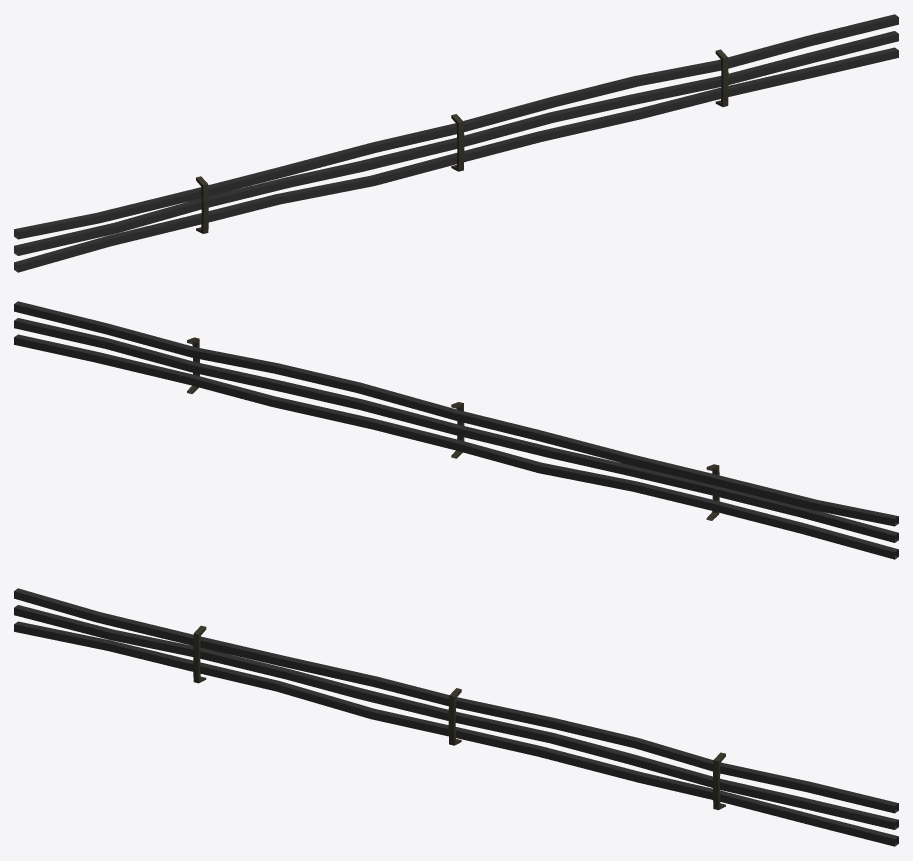
Rendered from SW_ENV_Wires3_FlatWall_04_05m.fbx.
3 renders of one model, top to bottom at view 1: azimuth 30°, elevation 25°; view 2: azimuth 150°, elevation 25°; view 3: azimuth 330°, elevation 25°, orthographic.
Parts seen in each view (by area): view 1: SW_ENV_Wires3_FlatWall_04_05m; view 2: SW_ENV_Wires3_FlatWall_04_05m; view 3: SW_ENV_Wires3_FlatWall_04_05m.
Boxes of the visible parts, x1,y1,x2,y2 form: SW_ENV_Wires3_FlatWall_04_05m: (14, 14, 898, 272); SW_ENV_Wires3_FlatWall_04_05m: (14, 301, 898, 559); SW_ENV_Wires3_FlatWall_04_05m: (14, 588, 898, 846).
Size of the model in its own units: 500 by 28.66 by 7.57.
